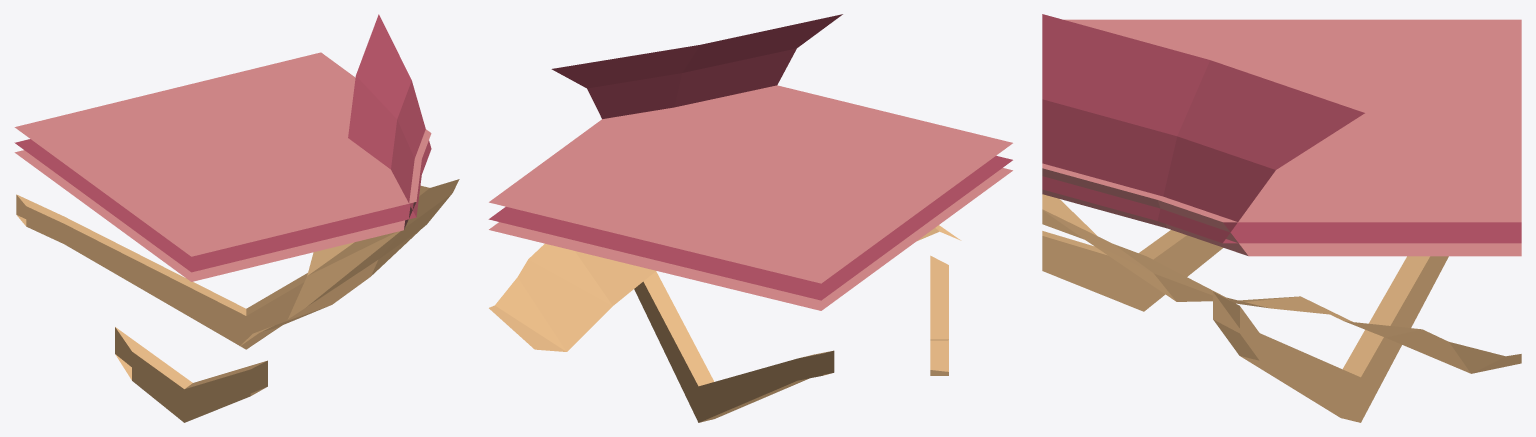
The model's file is cell_113.obj.
3 renders of one model, left to right at view 1: azimuth 30°, elevation 25°; view 2: azimuth 150°, elevation 25°; view 3: azimuth 270°, elevation 25°, orthographic. The views are drawn at different scales.
Bounding box in the file's own units: 1 × 0.9178 × 1.
